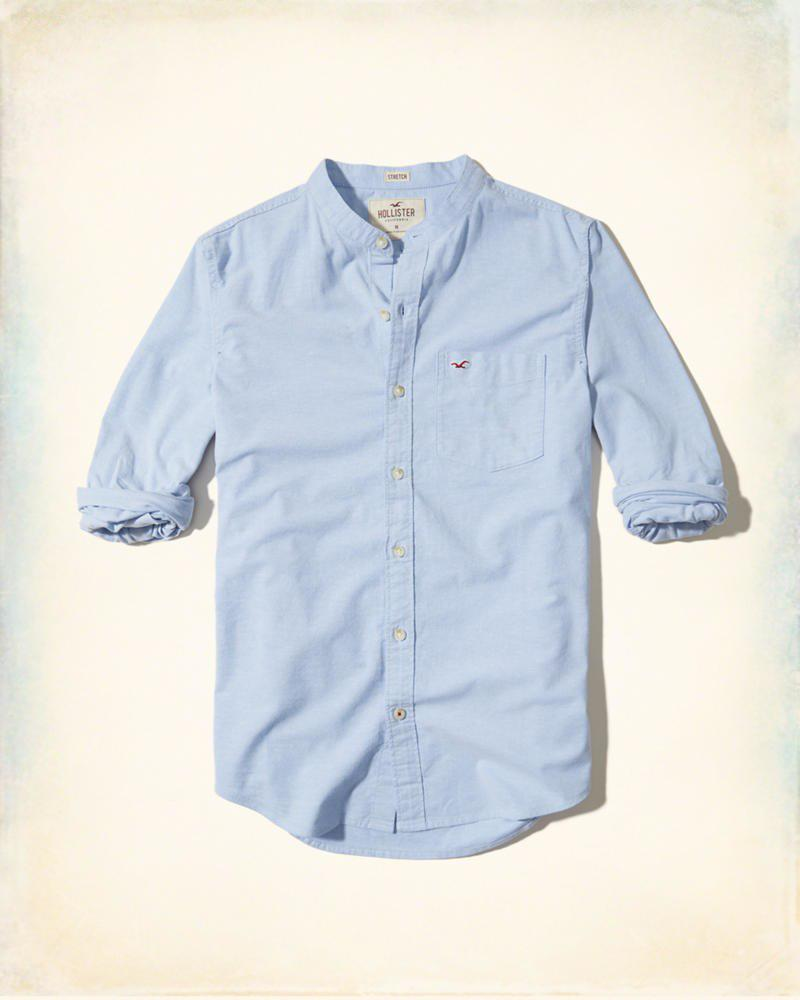teeshirt: (62, 153, 739, 869)
